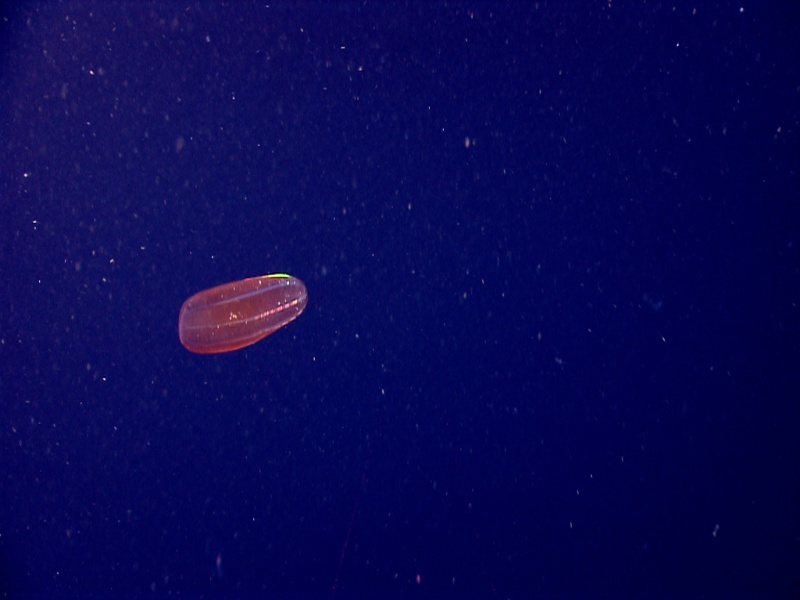Jellyfish: (165, 260, 306, 352)
